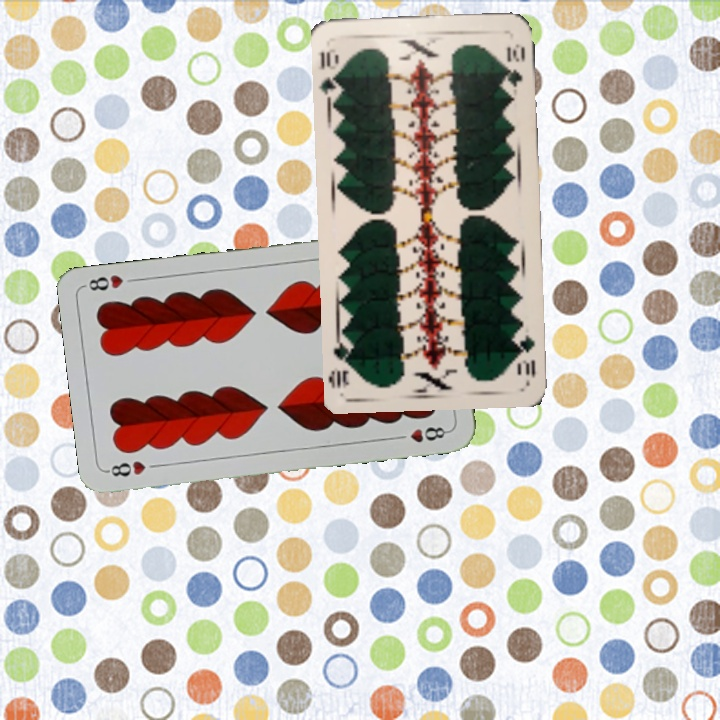G10: (316, 45, 344, 100), (512, 331, 538, 381)
H8: (103, 456, 148, 479)
